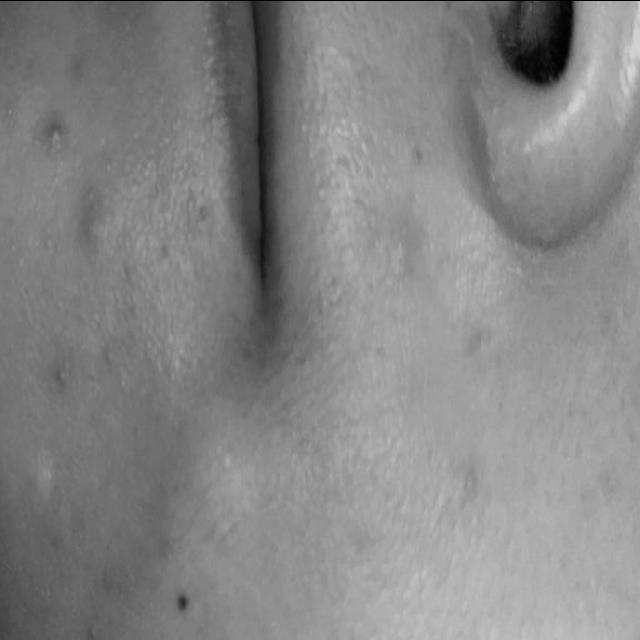papule: (360, 174, 444, 302), (41, 150, 130, 269)
pustule: (30, 101, 82, 158)
